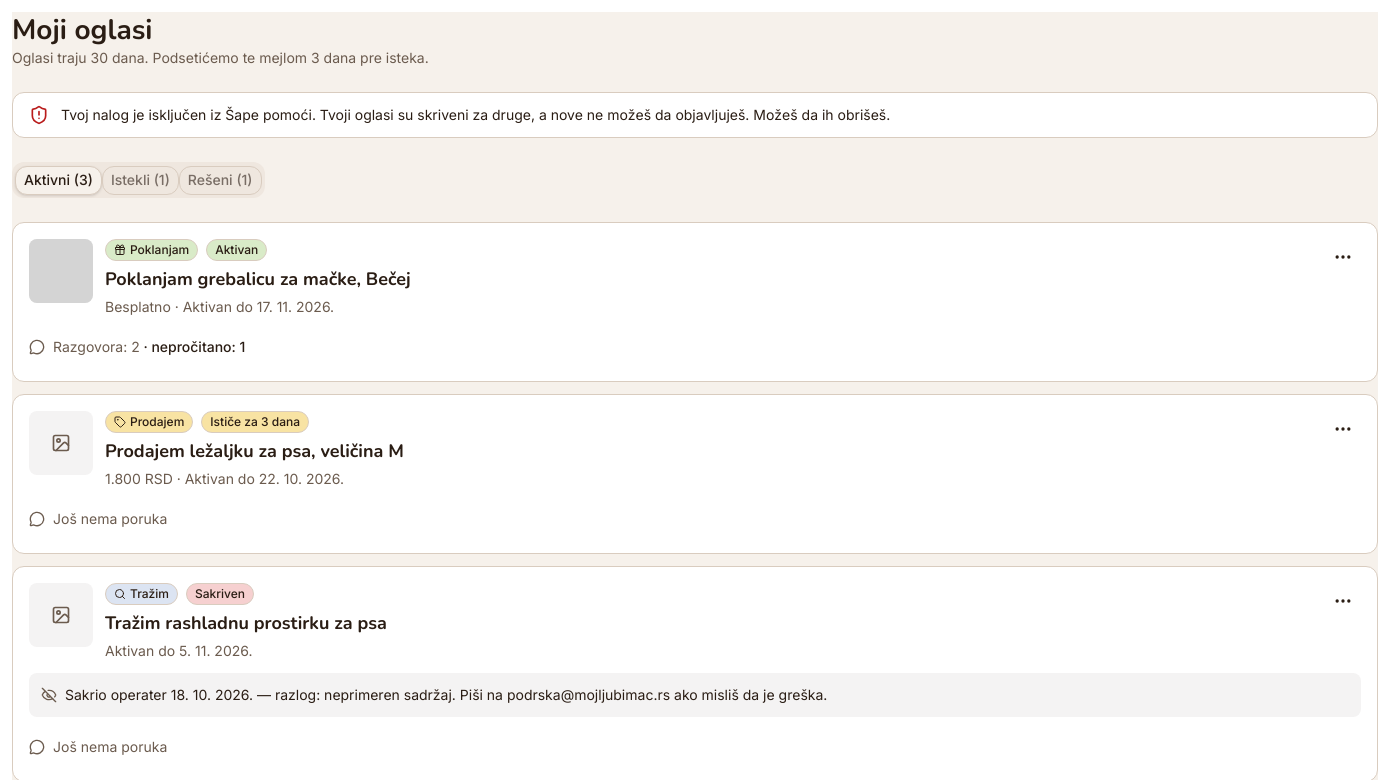
S35 hidden and suspended › suspended: banner, no edit / extend / resolve, delete allowed
Expected: the text "Tvoj nalog je isključen iz Šape pomoći. Tvoji oglasi su skriveni za druge, a nove ne možeš da objavljuješ. Možeš da ih o" is shown, [61,106,890,123]
What coordinates should you click on to do the following:
click the button named "Radnje: Poklanjam grebalicu za mačke, Bečej"
I would click on:
 (1343, 257)
Its box is [1325,239,1361,275].
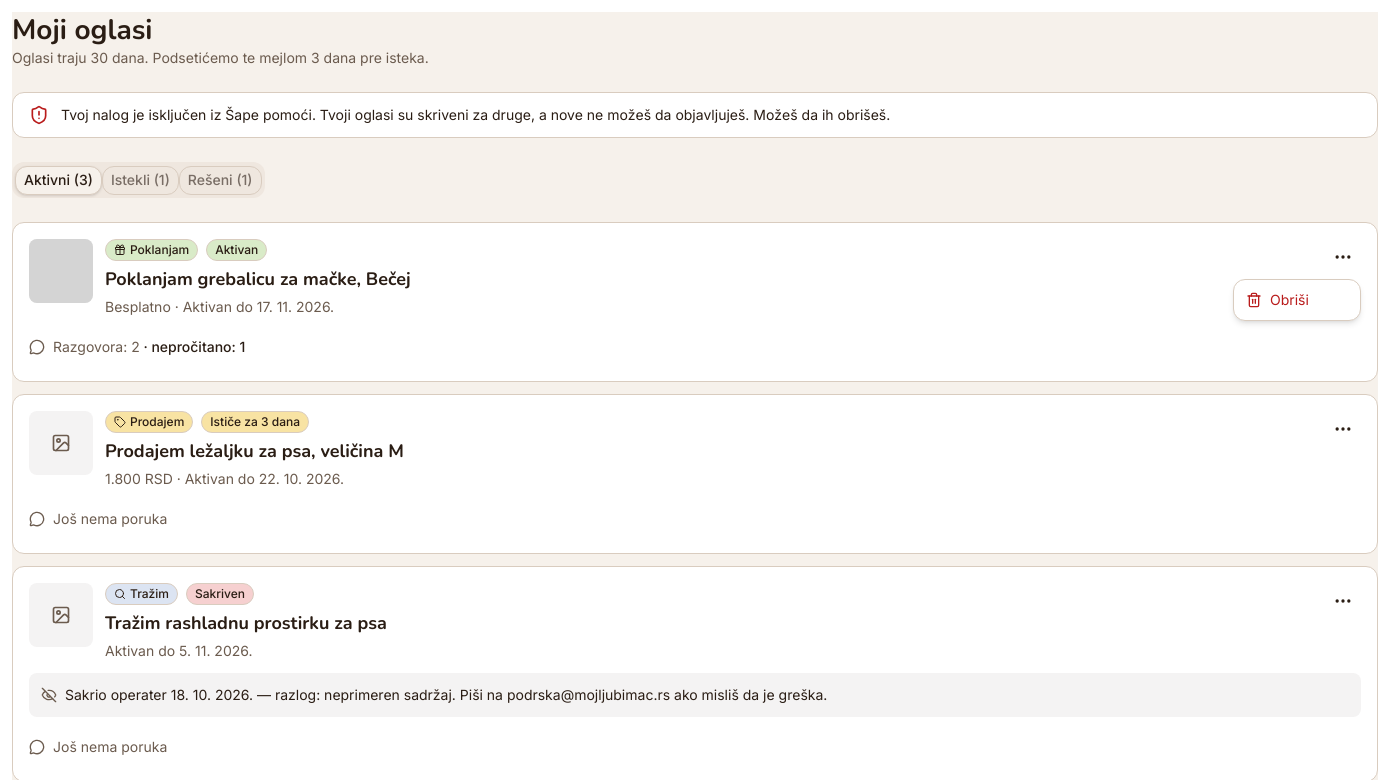
Result: the menu item "Obriši" is shown at [1246,291,1309,308]
